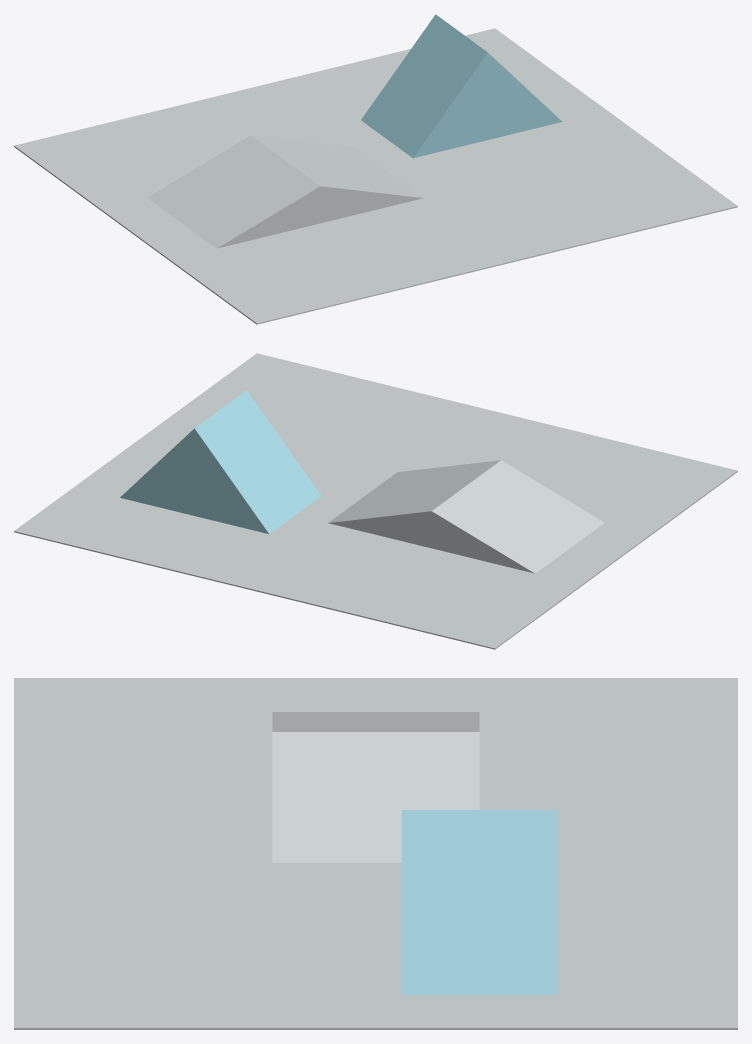
File: plot-polar.glb
3 views of the same model, one above another, from view 1: azimuth 30°, elevation 25°; view 2: azimuth 150°, elevation 25°; view 3: azimuth 270°, elevation 25° (orthographic). The views are drawn at different scales.
Size of the model in its own units: 15.96 by 2.82 by 13.96.
